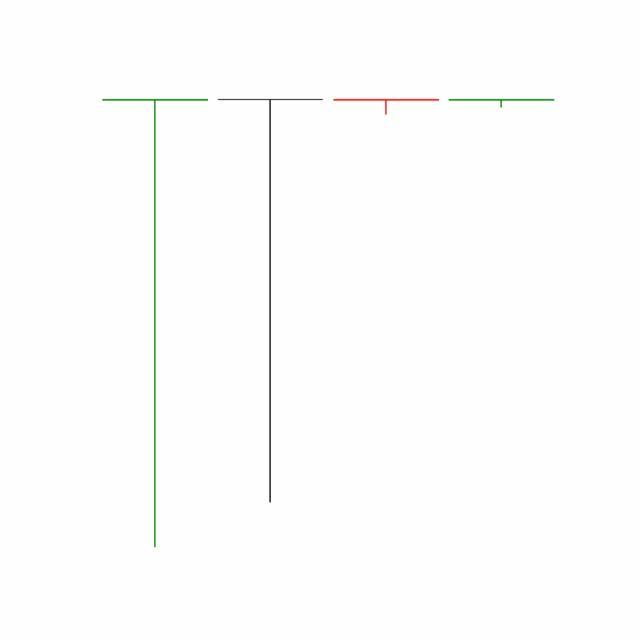Hammer: (444, 99, 560, 108)
